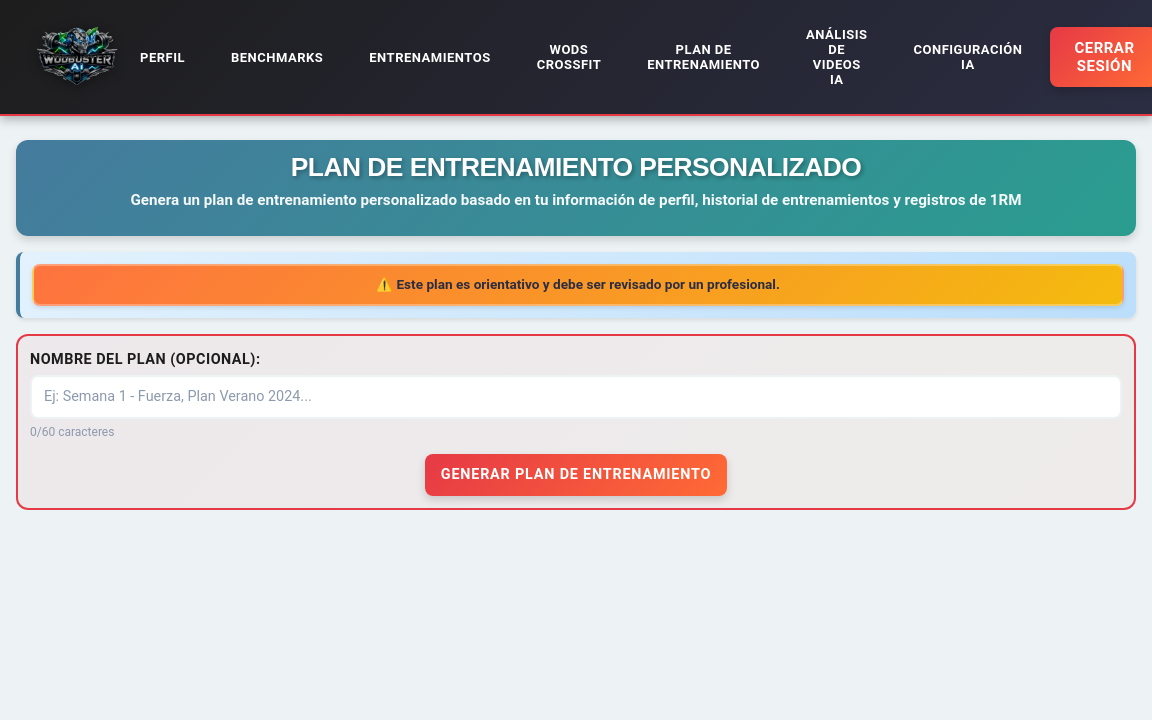
Test case: PlanEntrenamiento (componente) › renderiza y permite generar un plan
Expected: the heading "Plan de Entrenamiento Personalizado" is shown, left=291, top=152, right=861, bottom=182
Type "Mi plan test" into the field with placeholder "Ej: Semana 1 - Fuerza, Plan Verano 2024..." at [576, 397], box left=30, top=375, right=1122, bottom=419
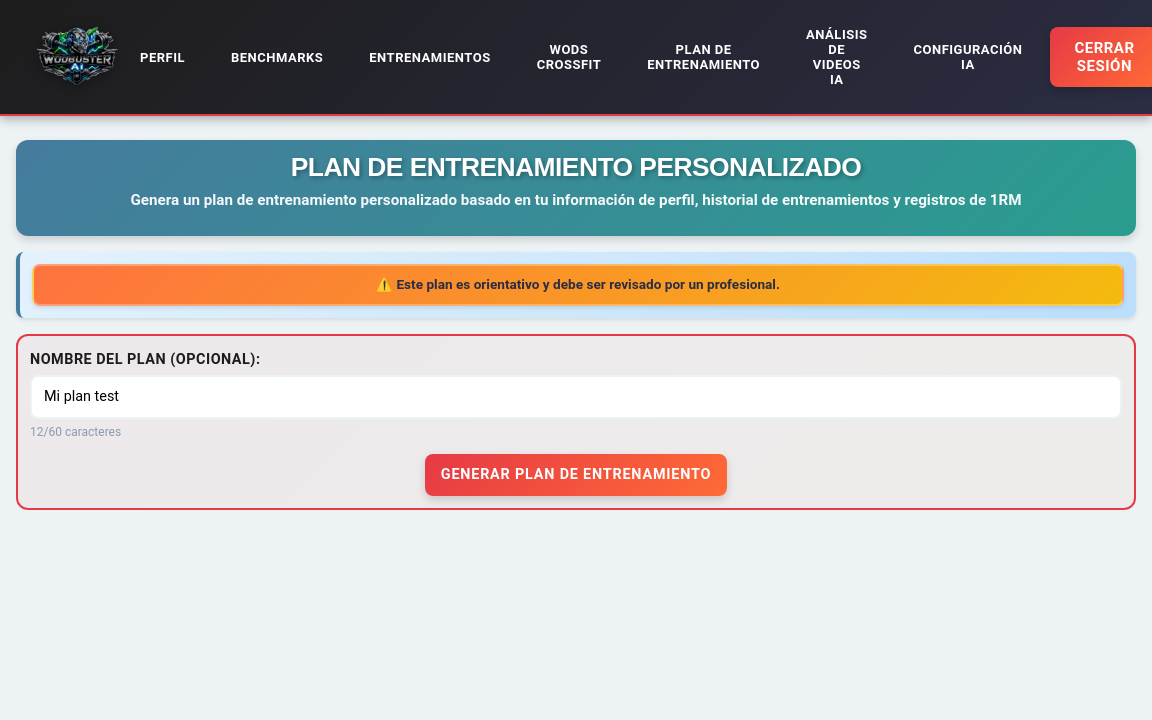
Note: Generar el plan
Click the button "Generar Plan de Entrenamiento" at [576, 475], box left=425, top=454, right=727, bottom=496
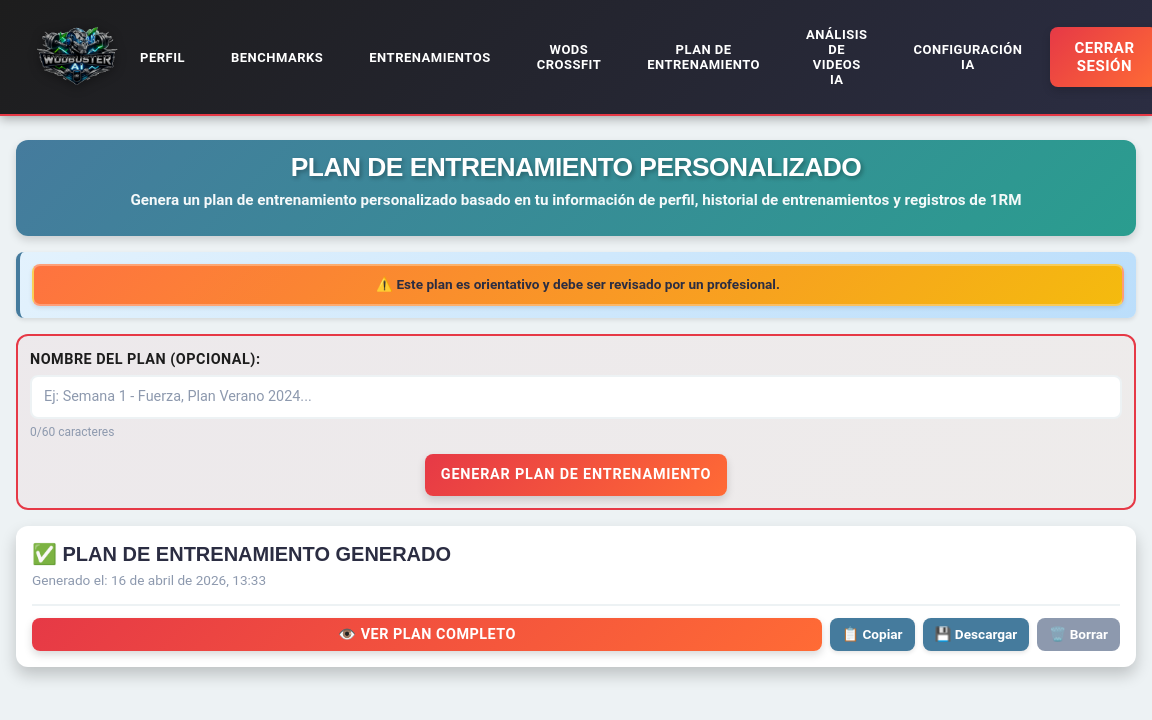
Expected: the heading "✅ Plan de Entrenamiento Generado" is shown, left=32, top=543, right=451, bottom=565
Note: Simular clic en "Ver Plan Completo" para abrir el modal
Click the button "👁️ Ver Plan Completo" at [427, 634], box left=32, top=618, right=822, bottom=651
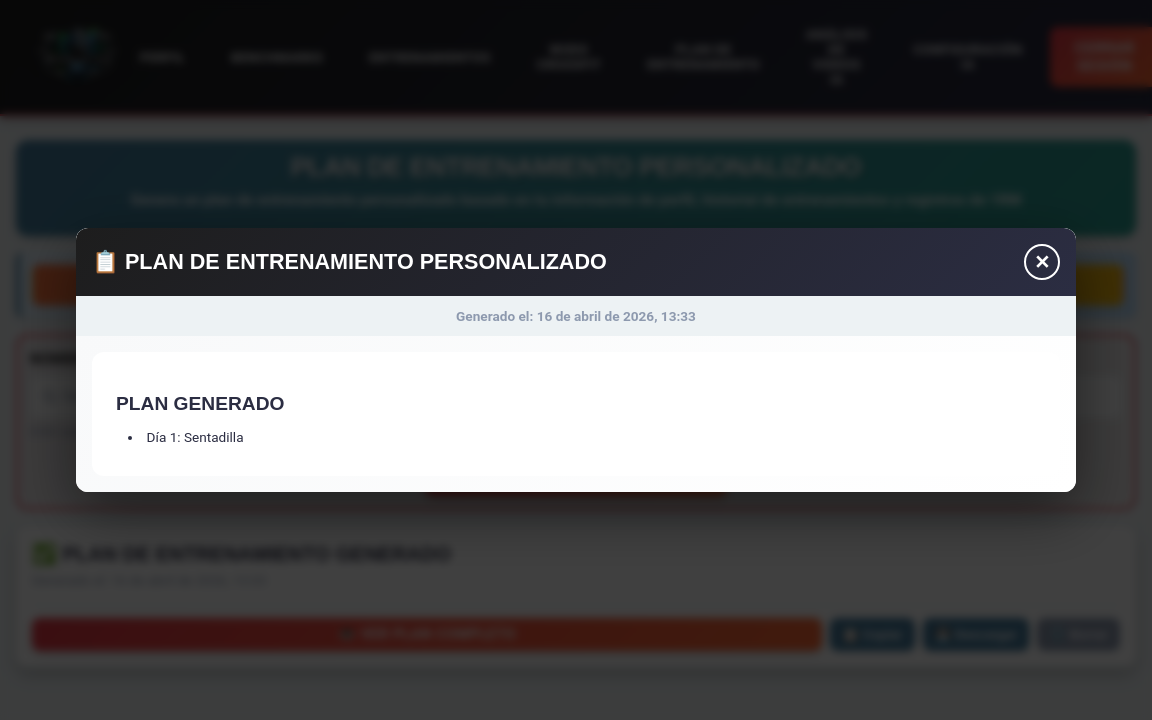
Expected: the list item "Día 1: Sentadilla" is shown, left=147, top=429, right=244, bottom=445
